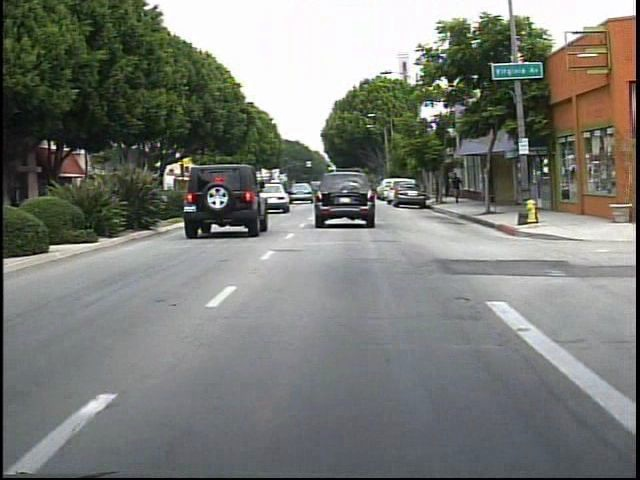person: (446, 169, 466, 207)
